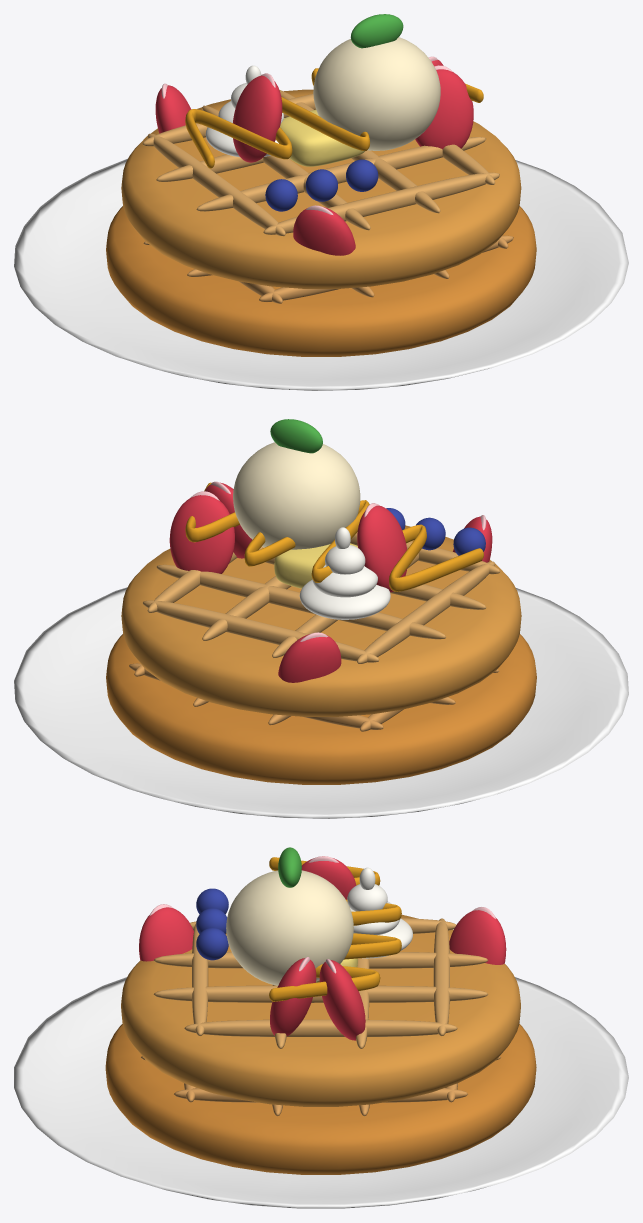
The model's file is comida_wafle_chef.glb.
3 renders of one model, top to bottom at view 1: azimuth 30°, elevation 25°; view 2: azimuth 150°, elevation 25°; view 3: azimuth 270°, elevation 25°, orthographic.
Parts seen in each view (by area): view 1: plato.001, wafle arriba.001, wafle abajo.001, helado wafle.001, miel.001, fresa wafle 1.001, fresa wafle 2.001, wafle arriba barra y 1.001, wafle arriba barra x 1.001, wafle arriba barra y 2.001, fresa wafle 4.001, mantequilla.001 (+12 smaller); view 2: plato.001, wafle arriba.001, wafle abajo.001, helado wafle.001, miel.001, fresa wafle 0.001, wafle arriba barra y 3.001, wafle arriba barra y 4.001, fresa wafle 1.001, wafle arriba barra x 1.001, fresa wafle 3.001, crema wafle 0.001 (+13 smaller); view 3: plato.001, wafle arriba.001, wafle abajo.001, helado wafle.001, miel.001, wafle arriba barra x 4.001, wafle arriba barra x 3.001, fresa wafle 0.001, fresa wafle 4.001, fresa wafle 3.001, wafle arriba barra x 2.001, fresa wafle 2.001 (+10 smaller).
Boxes of the visible parts, left/top/right/bottom form: plato.001: left=14, top=158, right=628, bottom=390; wafle arriba.001: left=121, top=89, right=521, bottom=288; wafle abajo.001: left=106, top=206, right=536, bottom=356; helado wafle.001: left=313, top=37, right=440, bottom=150; miel.001: left=185, top=68, right=483, bottom=168; fresa wafle 1.001: left=233, top=75, right=282, bottom=162; fresa wafle 2.001: left=415, top=69, right=473, bottom=149; wafle arriba barra y 1.001: left=263, top=172, right=499, bottom=234; wafle arriba barra x 1.001: left=147, top=133, right=285, bottom=236; wafle arriba barra y 2.001: left=196, top=137, right=485, bottom=211; fresa wafle 4.001: left=293, top=207, right=355, bottom=255; mantequilla.001: left=280, top=109, right=364, bottom=166; plato.001: left=14, top=587, right=628, bottom=818; wafle arriba.001: left=121, top=525, right=521, bottom=716; wafle abajo.001: left=106, top=634, right=536, bottom=784; helado wafle.001: left=233, top=442, right=360, bottom=549; miel.001: left=185, top=482, right=483, bottom=591; fresa wafle 0.001: left=169, top=495, right=234, bottom=573; wafle arriba barra y 3.001: left=156, top=564, right=446, bottom=639; wafle arriba barra y 4.001: left=142, top=600, right=379, bottom=662; fresa wafle 1.001: left=357, top=505, right=407, bottom=592; wafle arriba barra x 1.001: left=357, top=561, right=495, bottom=663; fresa wafle 3.001: left=278, top=634, right=341, bottom=682; crema wafle 0.001: left=299, top=579, right=390, bottom=619; plato.001: left=14, top=977, right=628, bottom=1208; wafle arriba.001: left=121, top=914, right=520, bottom=1106; wafle abajo.001: left=105, top=1024, right=536, bottom=1174; helado wafle.001: left=226, top=870, right=353, bottom=985; miel.001: left=269, top=857, right=401, bottom=1001; wafle arriba barra x 4.001: left=184, top=1019, right=457, bottom=1036; wafle arriba barra x 3.001: left=153, top=985, right=488, bottom=1002; fresa wafle 0.001: left=319, top=960, right=365, bottom=1040; fresa wafle 4.001: left=139, top=907, right=193, bottom=961; fresa wafle 3.001: left=449, top=910, right=506, bottom=964; wafle arriba barra x 2.001: left=153, top=952, right=488, bottom=968; fresa wafle 2.001: left=270, top=958, right=316, bottom=1036.
Size of the model in its own units: 0.3967 by 0.2015 by 0.3967.
